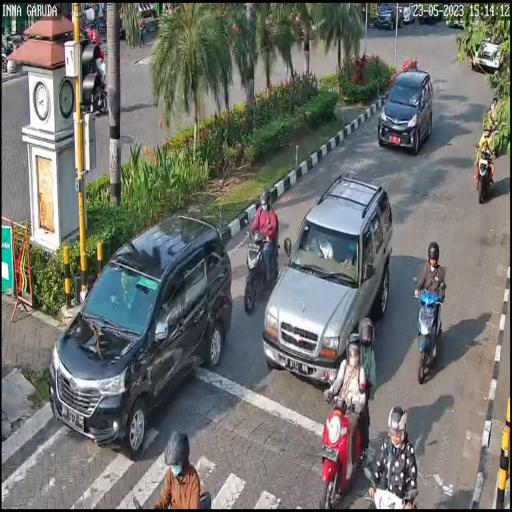mobil: (47, 214, 231, 444), (266, 170, 390, 382), (379, 68, 433, 156)
motor: (313, 384, 371, 508), (242, 221, 279, 323), (414, 277, 446, 382), (475, 142, 493, 205)
